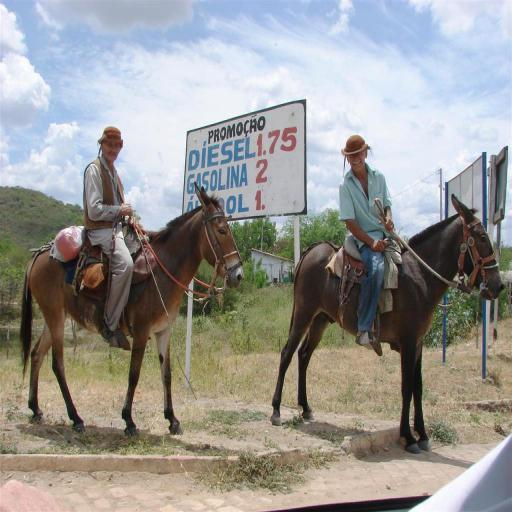horse: (267, 192, 506, 452), (18, 180, 245, 436)
